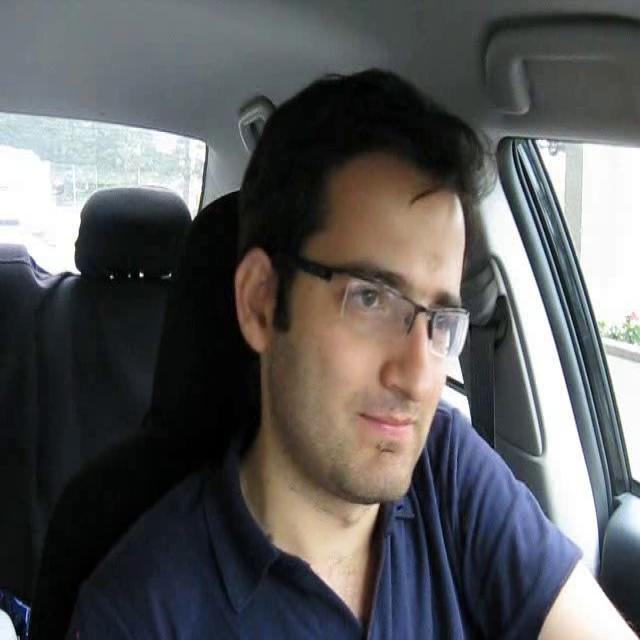close: (354, 409, 426, 444)
